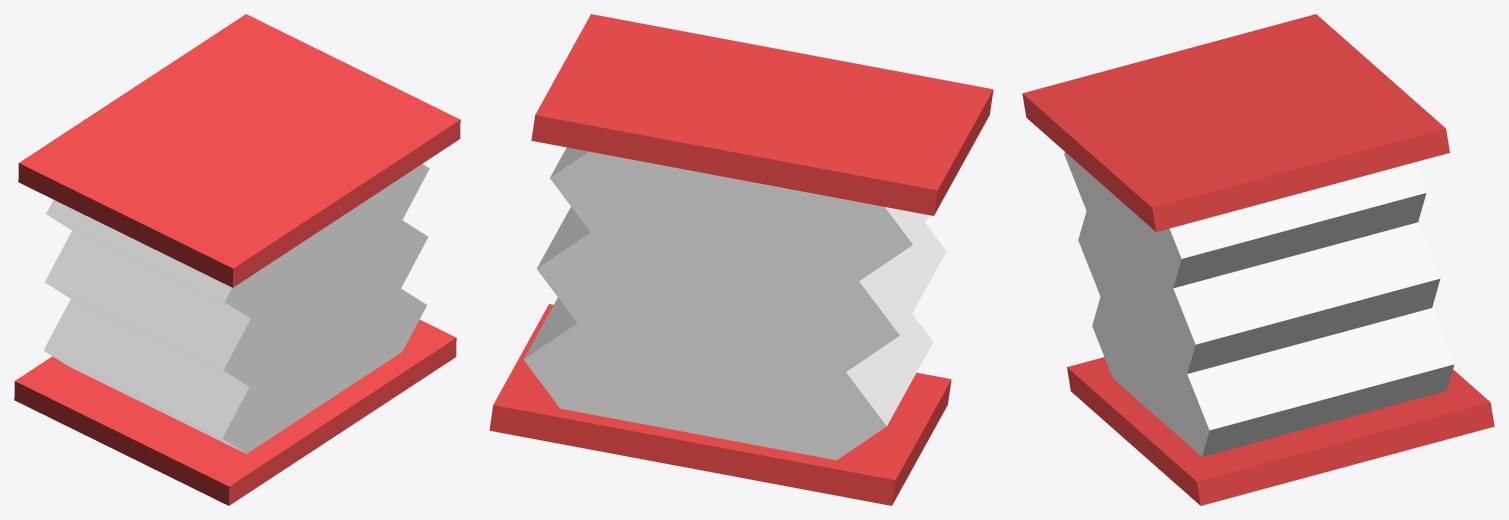
File: inflator.obj
3 renders of one model, left to right at view 1: azimuth 30°, elevation 25°; view 2: azimuth 150°, elevation 25°; view 3: azimuth 270°, elevation 25°, orthographic. The views are drawn at different scales.
Parts seen in each view (by area): view 1: Cube (3), Stairs, Cube (1), Cube (2), Stairs (1); view 2: Cube (1), Cube (3), Cube (2), Stairs, Stairs (1); view 3: Stairs (1), Cube (3), Cube (2), Cube (1), Stairs.
Boxes of the visible parts, x1,y1,x2,y2 form: Cube (3): (18,14,460,287); Stairs: (43,200,251,453); Cube (1): (248,176,403,452); Cube (2): (14,319,456,505); Stairs (1): (400,164,429,352); Cube (1): (565,154,870,459); Cube (3): (531,14,993,215); Cube (2): (489,304,951,505); Stairs: (833,204,946,460); Stairs (1): (523,147,601,409); Stairs (1): (1164,162,1454,456); Cube (3): (1022,14,1449,231); Cube (2): (1067,357,1494,505); Cube (1): (1079,164,1200,455); Stairs: (1064,152,1113,378).
Bounding box in the file's own units: 0.7226 × 0.5806 × 0.6831.
